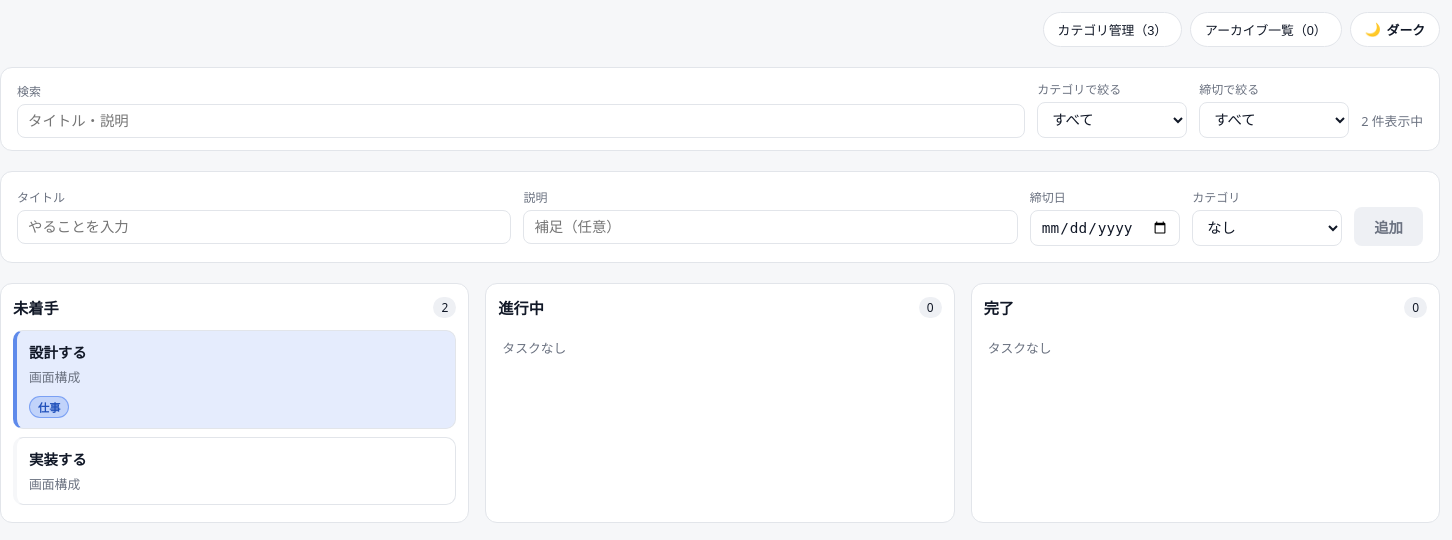
KanbanBoard › カテゴリで絞り込める
Select "仕事" in the dropdown labelled "カテゴリで絞る": (1112, 120) x1=1037 y1=102 x2=1187 y2=138
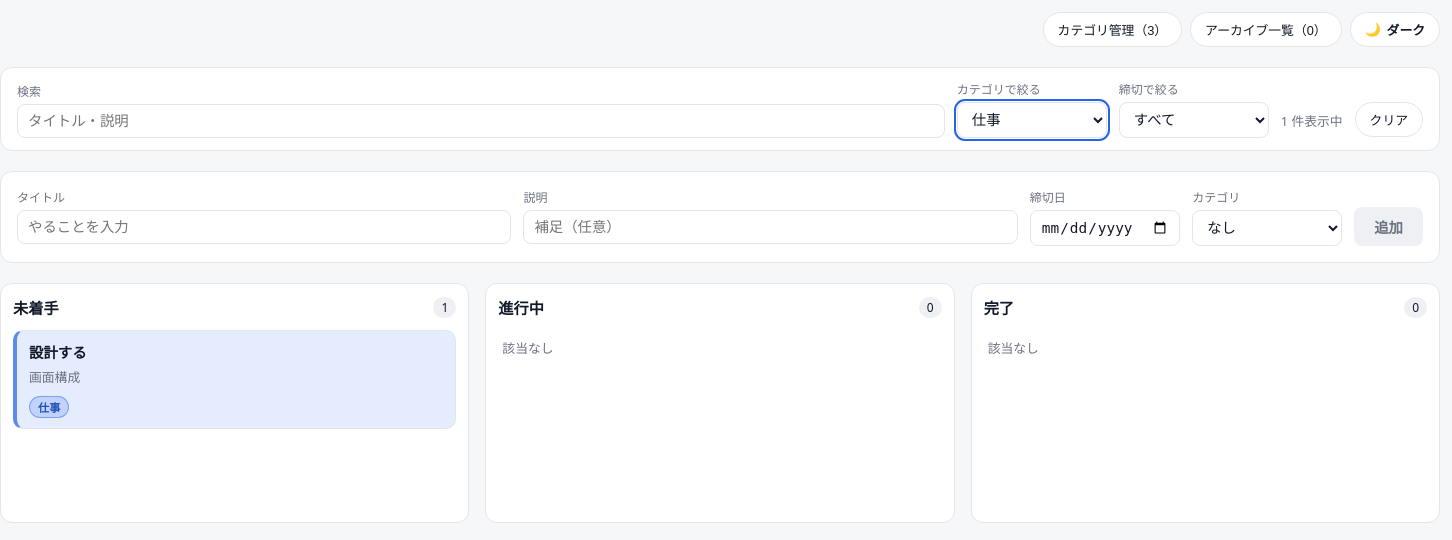
Expected: the heading "設計する" is shown, x1=29 y1=343 x2=87 y2=362
Now the button "実装する" is gone
